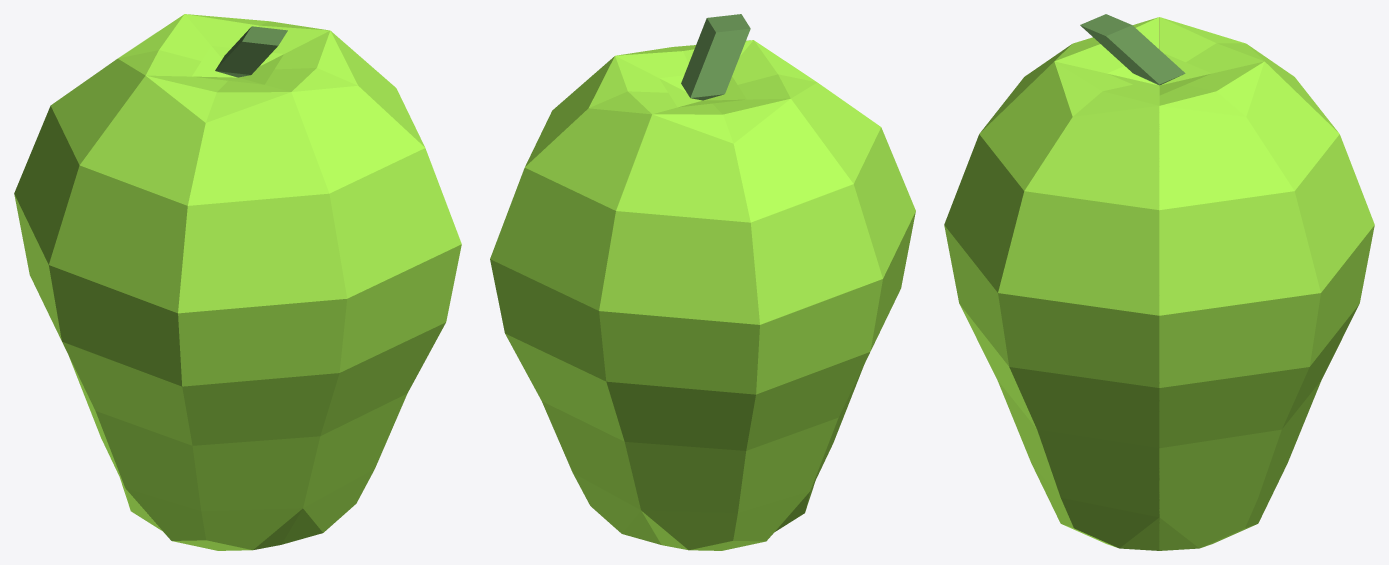
Rendered from AppleGreen.fbx.
3 views of the same model, side by side, from view 1: azimuth 30°, elevation 25°; view 2: azimuth 150°, elevation 25°; view 3: azimuth 270°, elevation 25° (orthographic). The views are drawn at different scales.
Visible parts, largest first — view 1: Cube.000, Cube.003, Cube.008, Cube.004, Cube.007, Cube.002, Cube.001, Cube.006, Cube.005; view 2: Cube.002, Cube.004, Cube.006, Cube.003, Cube.005, Cube.001, Cube.000, Cube.007; view 3: Cube.005, Cube.007, Cube.008, Cube.006, Cube.001, Cube.002, Cube.000, Cube.004, Cube.003.
Part boxes in pixels (x1=…): Cube.000: x1=178, y1=78, x2=347, y2=550; Cube.003: x1=49, y1=75, x2=238, y2=550; Cube.008: x1=239, y1=68, x2=461, y2=544; Cube.004: x1=14, y1=50, x2=235, y2=530; Cube.007: x1=252, y1=30, x2=424, y2=146; Cube.002: x1=118, y1=14, x2=236, y2=77; Cube.001: x1=215, y1=26, x2=287, y2=77; Cube.006: x1=185, y1=14, x2=269, y2=58; Cube.005: x1=237, y1=21, x2=329, y2=77; Cube.002: x1=599, y1=100, x2=759, y2=550; Cube.004: x1=705, y1=98, x2=882, y2=550; Cube.006: x1=490, y1=91, x2=701, y2=544; Cube.003: x1=704, y1=74, x2=915, y2=531; Cube.005: x1=525, y1=56, x2=702, y2=166; Cube.001: x1=681, y1=14, x2=750, y2=100; Cube.000: x1=727, y1=40, x2=816, y2=89; Cube.007: x1=615, y1=47, x2=688, y2=91; Cube.005: x1=1159, y1=84, x2=1320, y2=550; Cube.007: x1=998, y1=84, x2=1159, y2=550; Cube.008: x1=944, y1=61, x2=1159, y2=542; Cube.006: x1=1161, y1=61, x2=1374, y2=541; Cube.001: x1=1080, y1=14, x2=1185, y2=85; Cube.002: x1=1158, y1=43, x2=1338, y2=132; Cube.000: x1=980, y1=43, x2=1156, y2=132; Cube.004: x1=1159, y1=17, x2=1245, y2=67; Cube.003: x1=1073, y1=17, x2=1159, y2=85.
Bounding box in the file's own units: 403 × 513 × 403.
